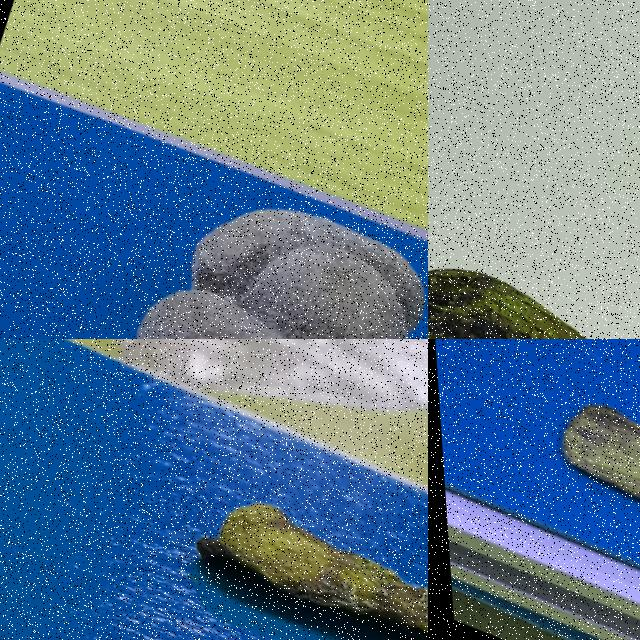Agglomerated_cocoabeans: (6, 111, 427, 338)
Fine_cocoabeans: (428, 126, 639, 338)
Flat_cocoabeans: (17, 387, 427, 639), (458, 339, 639, 603)
